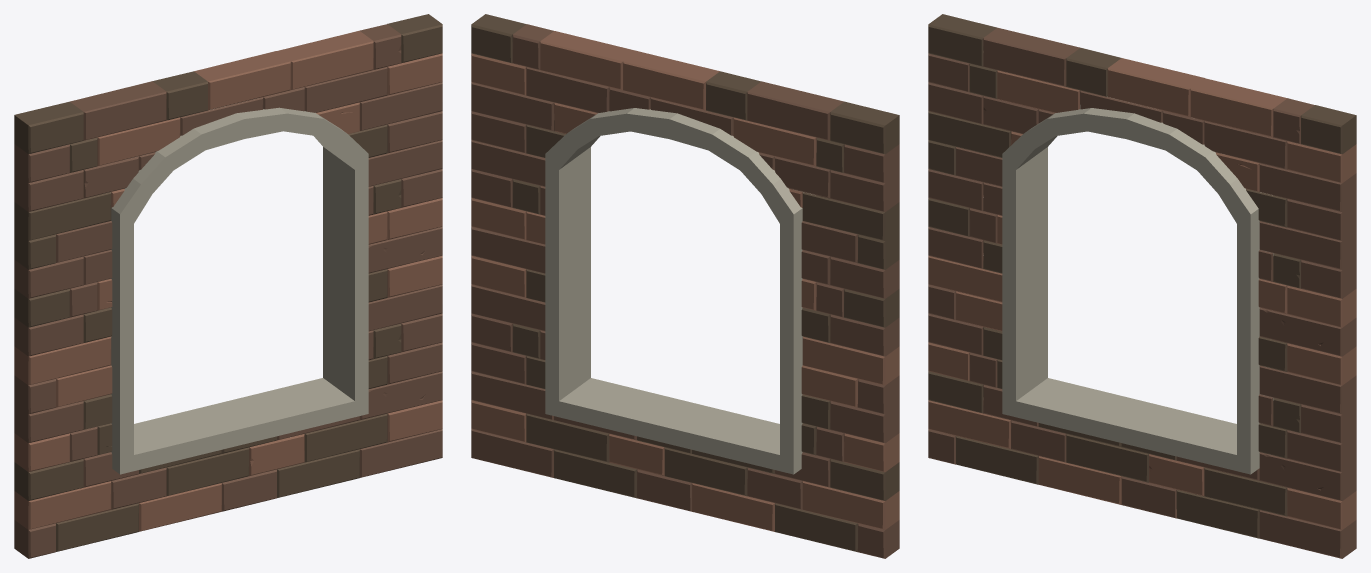
Rendered from victorian_wall_brick_1_window.fbx.
3 renders of one model, left to right at view 1: azimuth 30°, elevation 25°; view 2: azimuth 150°, elevation 25°; view 3: azimuth 330°, elevation 25°, orthographic.
Parts seen in each view (by area): view 1: Cube.166; view 2: Cube.166; view 3: Cube.166.
Part boxes in pixels (left/top/right/bottom): Cube.166: left=14, top=14, right=442, bottom=558; Cube.166: left=471, top=14, right=899, bottom=558; Cube.166: left=928, top=14, right=1356, bottom=558.
Size of the model in its own units: 300 by 300 by 40.
